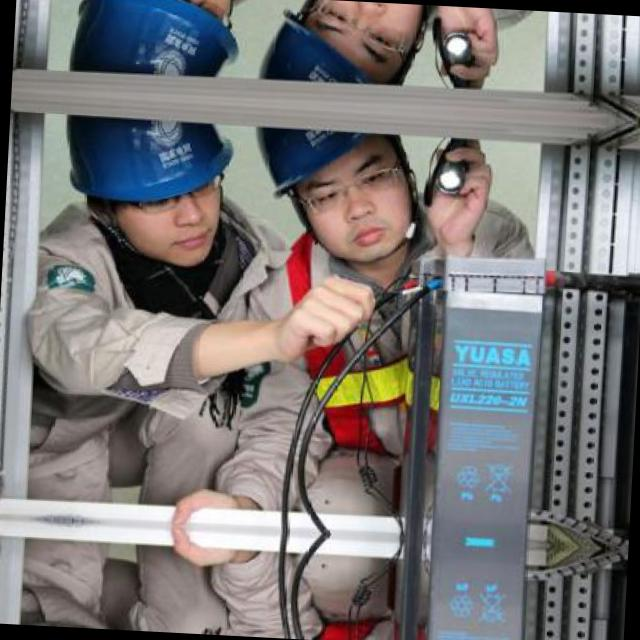helmet: (52, 100, 256, 278), (262, 116, 454, 275), (270, 0, 461, 101), (63, 0, 263, 95)
